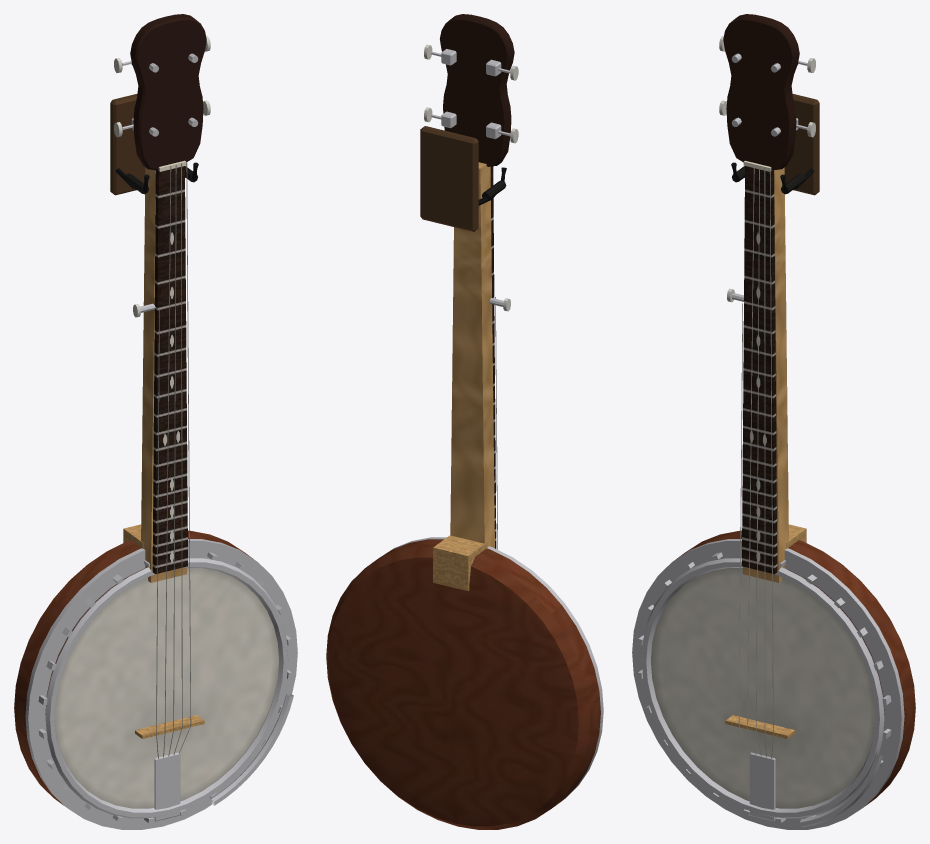
Rendered from banjo.glb.
The picture shows the model from 3 angles, left to right: view 1: azimuth 30°, elevation 25°; view 2: azimuth 150°, elevation 25°; view 3: azimuth 330°, elevation 25°; orthographic projection. The views are drawn at different scales.
Visible parts, largest first — view 1: banjo; view 2: banjo; view 3: banjo.
Boxes of the visible parts, bbox=[...] form: banjo: bbox=[14, 14, 297, 829]; banjo: bbox=[326, 14, 603, 829]; banjo: bbox=[632, 14, 915, 829].
Bounding box in the file's own units: 0.33 × 0.95 × 0.0805.
1 material, 1 textured.
